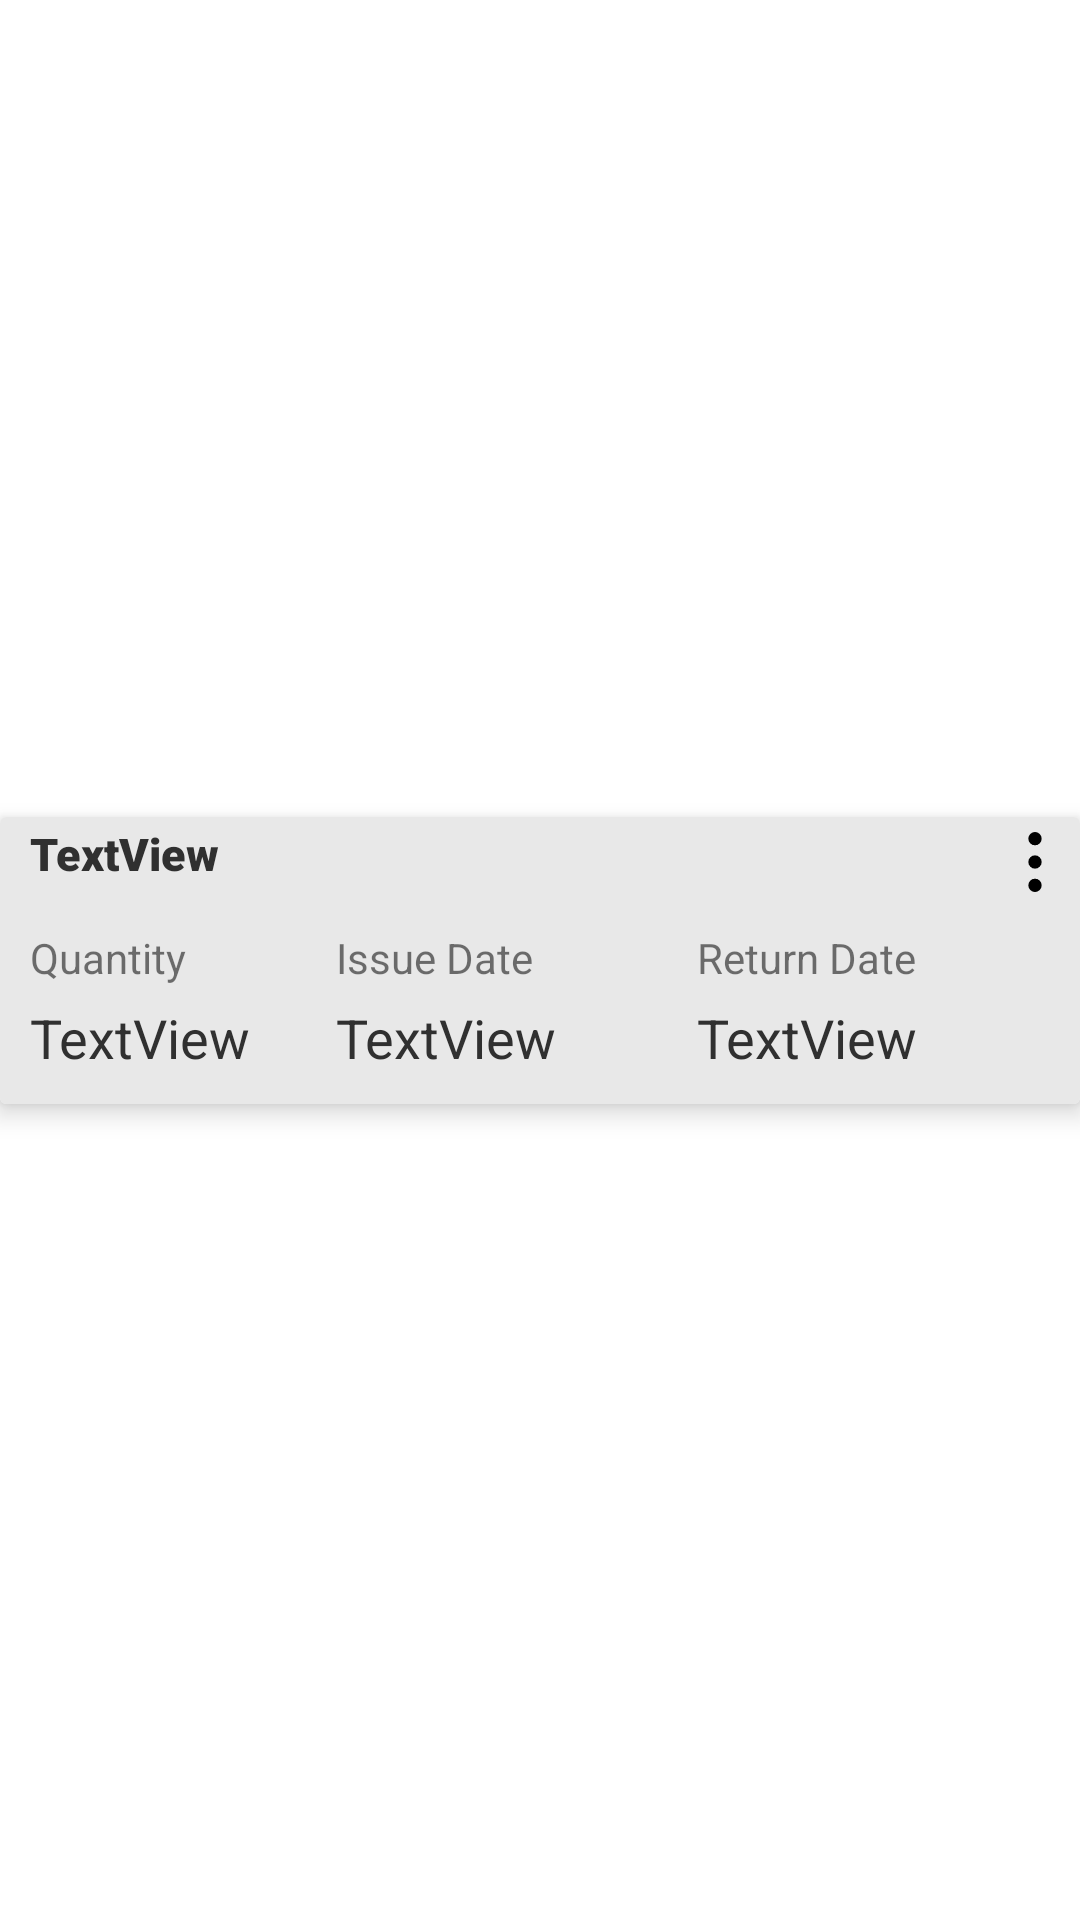

Icons on this 1080×1920 Android screen, each with its box as (x1, y1, x2, y2):
more: (1028, 832, 1042, 892)
